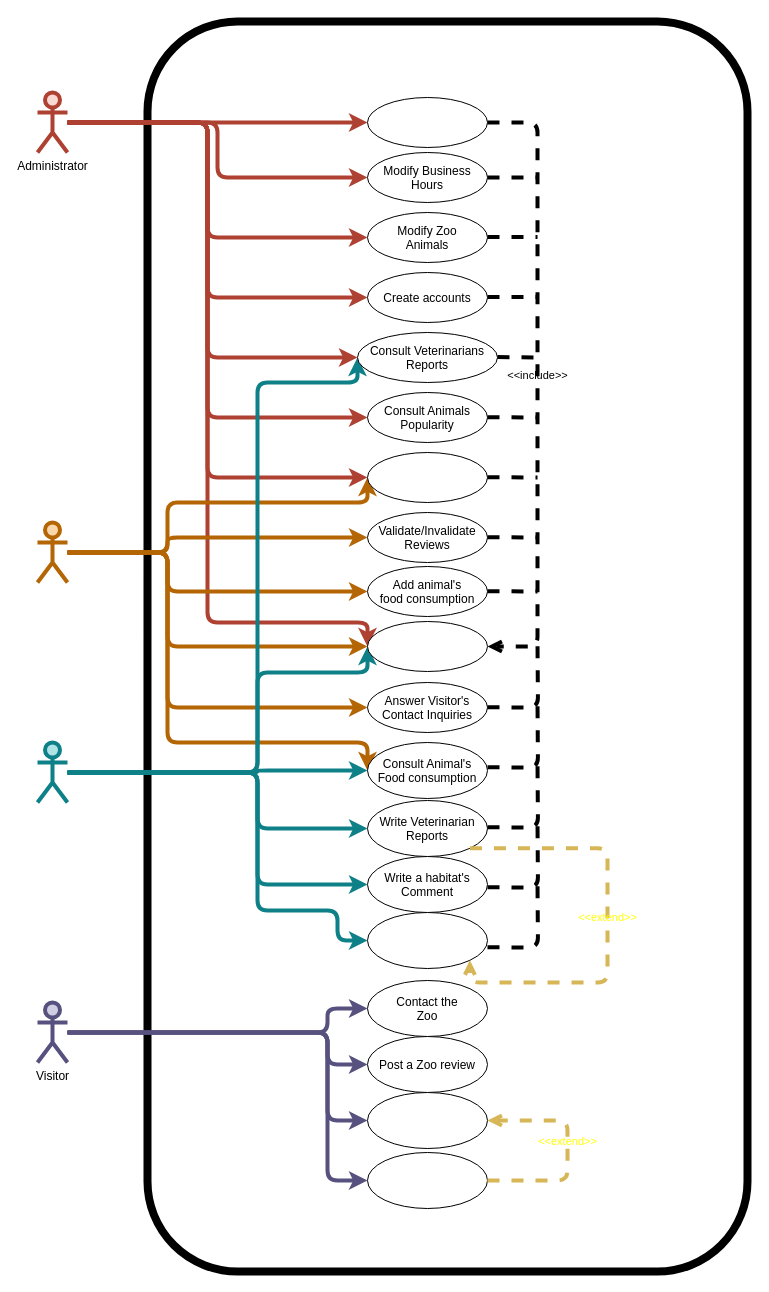
Some shapes in this 769 by 1292 pixel diagram are drawn without their labels. Each missing label, with the centre of its shape:
Connexion: (427,646)
Consult Zoo Animals: (427,1120)
Consult Zoo Habitats: (427,1180)
Employee: (52,552)
Give a state to the Animals: (427,940)
Modify Services: (427,477)
Modify Zoo Habitats: (427,122)
Veterinarian: (52,772)
